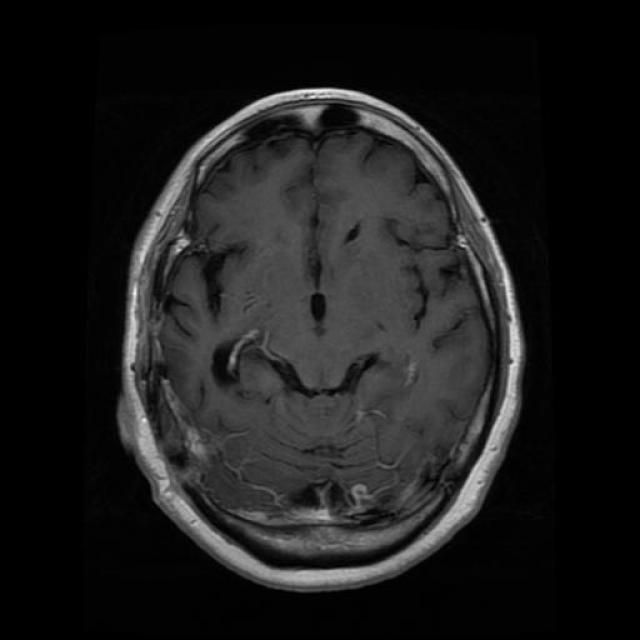glioma: (241, 244, 397, 423)
